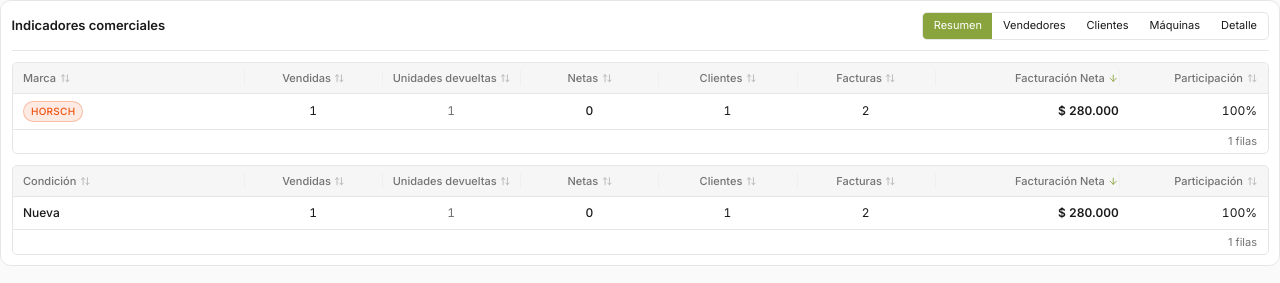
Test: Ventas de Máquinas › unifies Campos in customer grouping and invoice detail across systems
Click the button "Clientes" in the row of "Indicadores comerciales" at [1108, 26], box [1076, 12, 1139, 38]
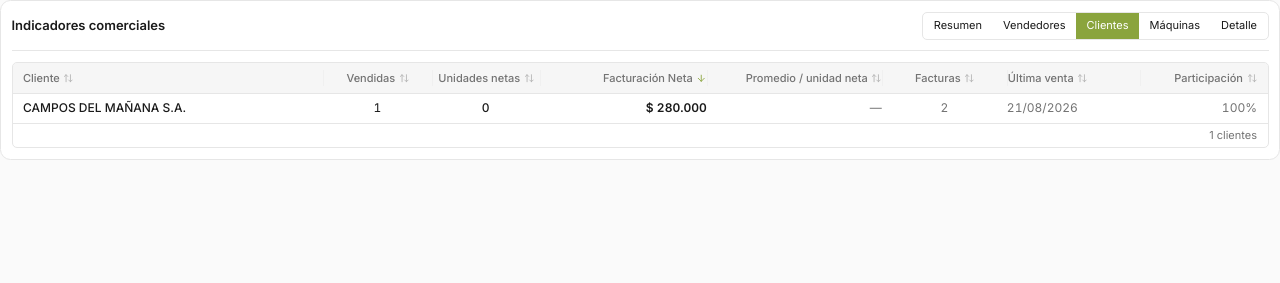
Result: the text "CAMPOS DEL MAÑANA S.A." is shown once at [23, 100, 186, 115]
Click the button "Detalle" at [1239, 26], box [1211, 12, 1268, 38]
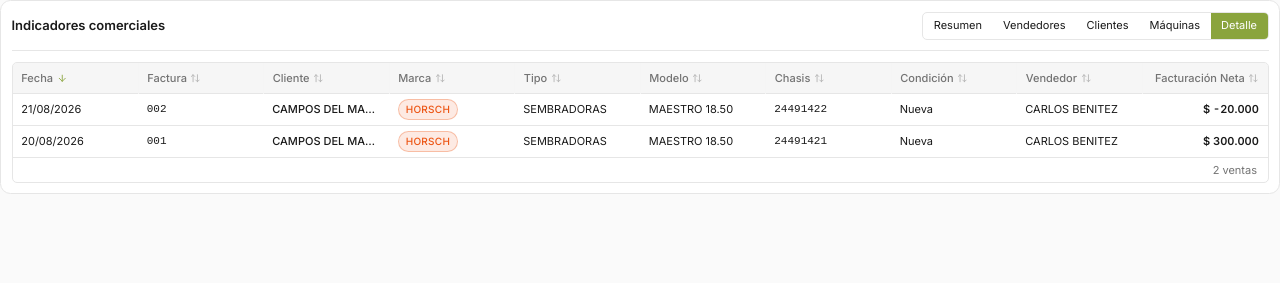
Result: the text "CAMPOS DEL MAÑANA S.A." is shown 2 times at [272, 101, 380, 118]; [272, 133, 380, 150]
